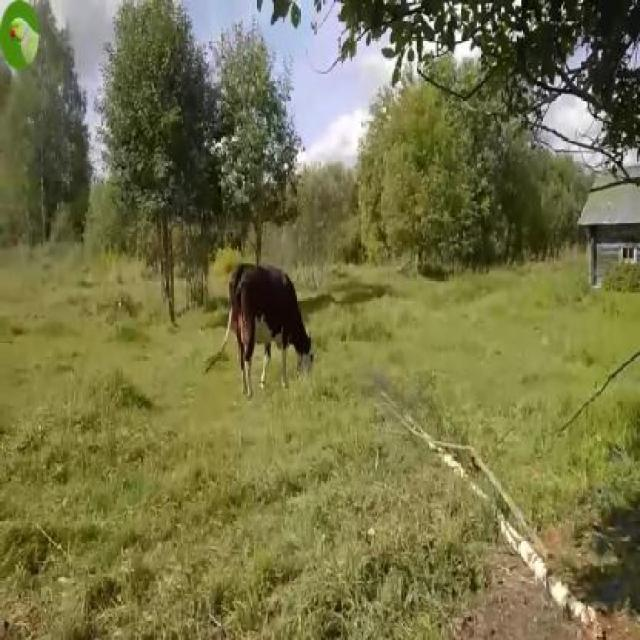Cow: (226, 263, 312, 403)
